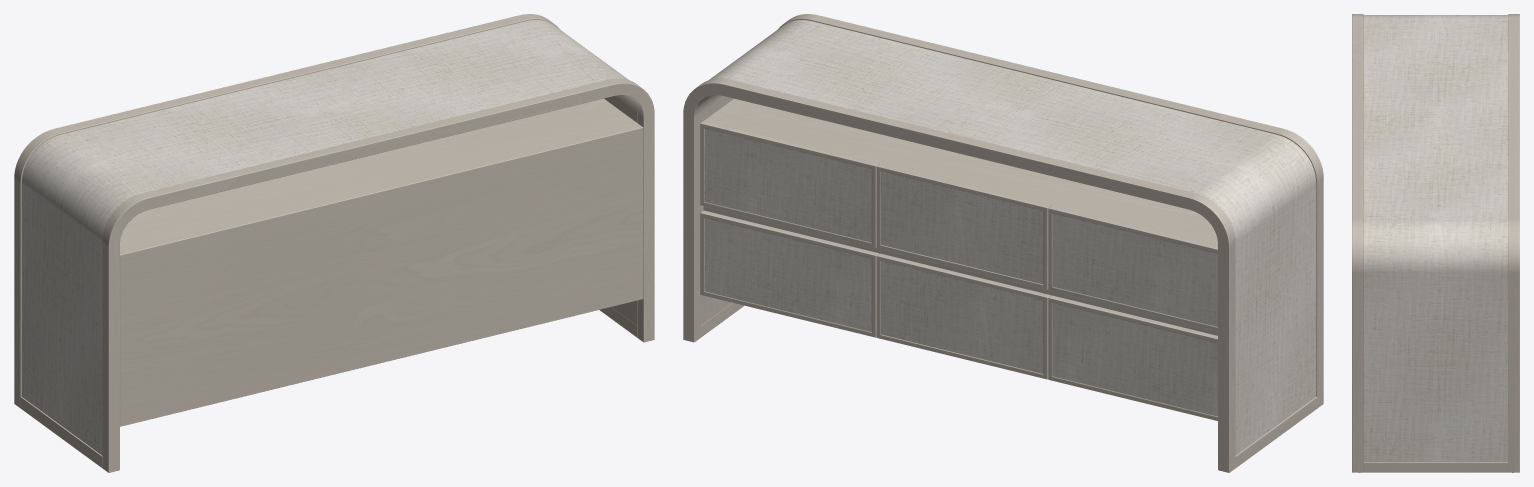
File: rica_grasscloth_6_drawer_dresser.glb
3 renders of one model, left to right at view 1: azimuth 30°, elevation 25°; view 2: azimuth 150°, elevation 25°; view 3: azimuth 270°, elevation 25°, orthographic. The views are drawn at different scales.
Visible parts, largest first — view 1: 7ec56123-452d-4957-980e-ffe62b2131a5; view 2: 7ec56123-452d-4957-980e-ffe62b2131a5; view 3: 7ec56123-452d-4957-980e-ffe62b2131a5.
Boxes of the visible parts, x1,y1,x2,y2 form: 7ec56123-452d-4957-980e-ffe62b2131a5: [14, 14, 654, 472]; 7ec56123-452d-4957-980e-ffe62b2131a5: [683, 14, 1323, 472]; 7ec56123-452d-4957-980e-ffe62b2131a5: [1352, 14, 1519, 472].
Bounding box in the file's own units: 1.52 × 0.7126 × 0.4572.
Materials: 1 (1 with a texture image).
